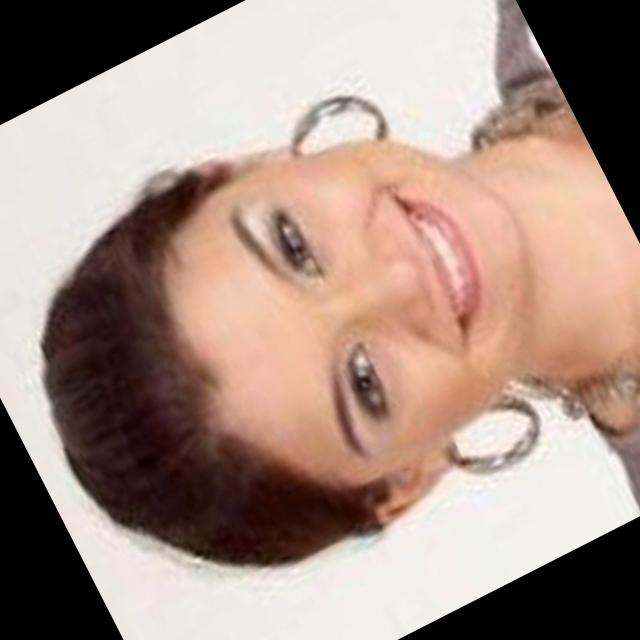bareface: (0, 40, 620, 640)
